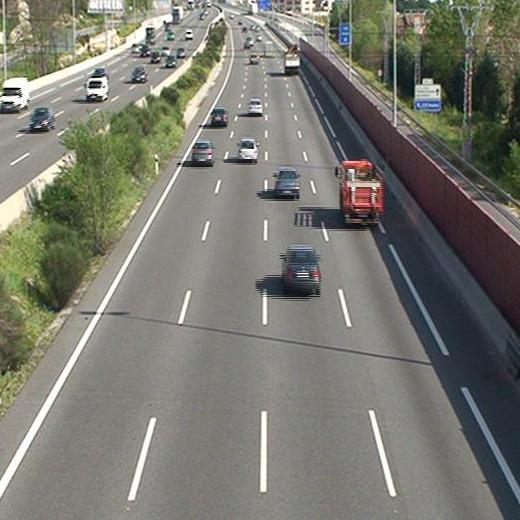car: (282, 247, 321, 292), (275, 170, 298, 198), (192, 143, 214, 165), (238, 140, 258, 162), (211, 110, 227, 127), (247, 100, 263, 115), (249, 53, 259, 64)
small-truck: (338, 161, 383, 225), (283, 50, 300, 74)
